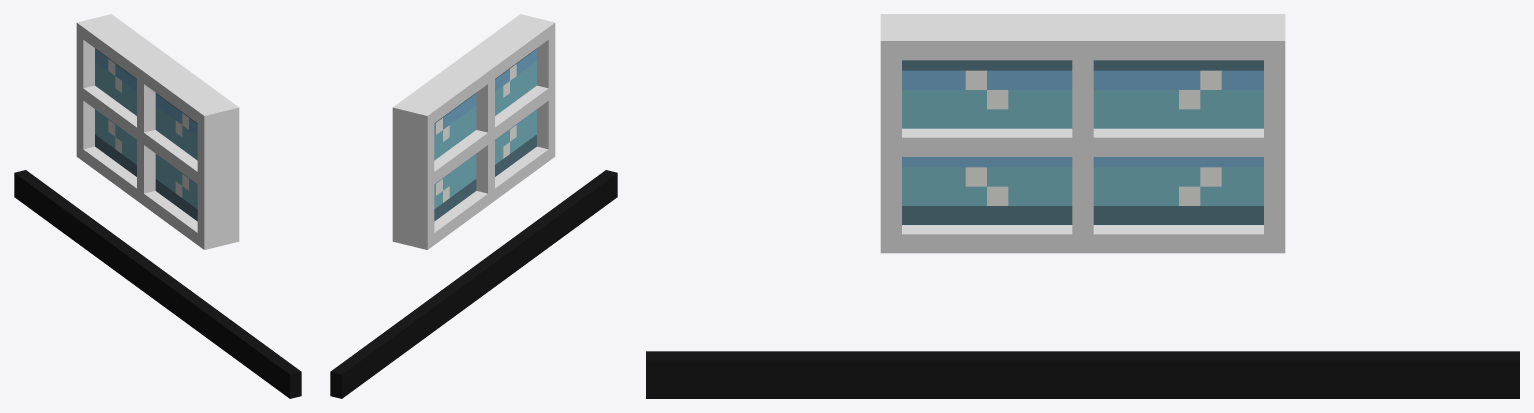
File: wall_base_wind.obj
3 renders of one model, left to right at view 1: azimuth 30°, elevation 25°; view 2: azimuth 150°, elevation 25°; view 3: azimuth 270°, elevation 25°, orthographic. The views are drawn at different scales.
Size of the model in its own units: 0.3 by 1.9 by 4.1.
1 material, 1 textured.
